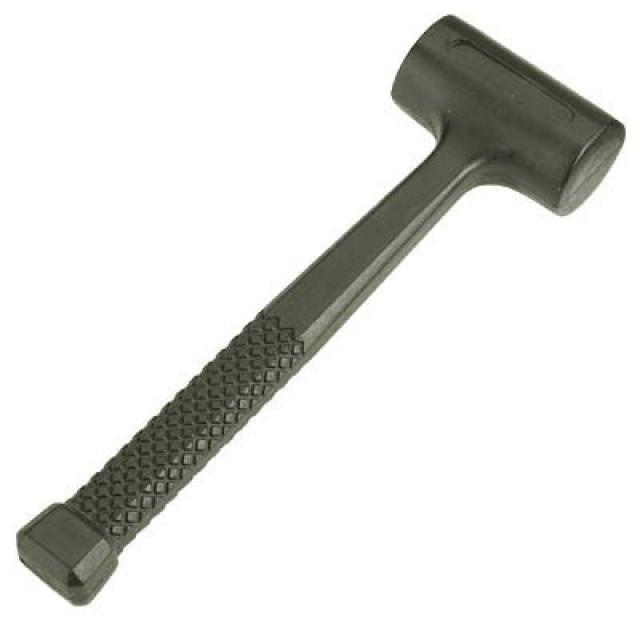hammer: (3, 0, 640, 619)
